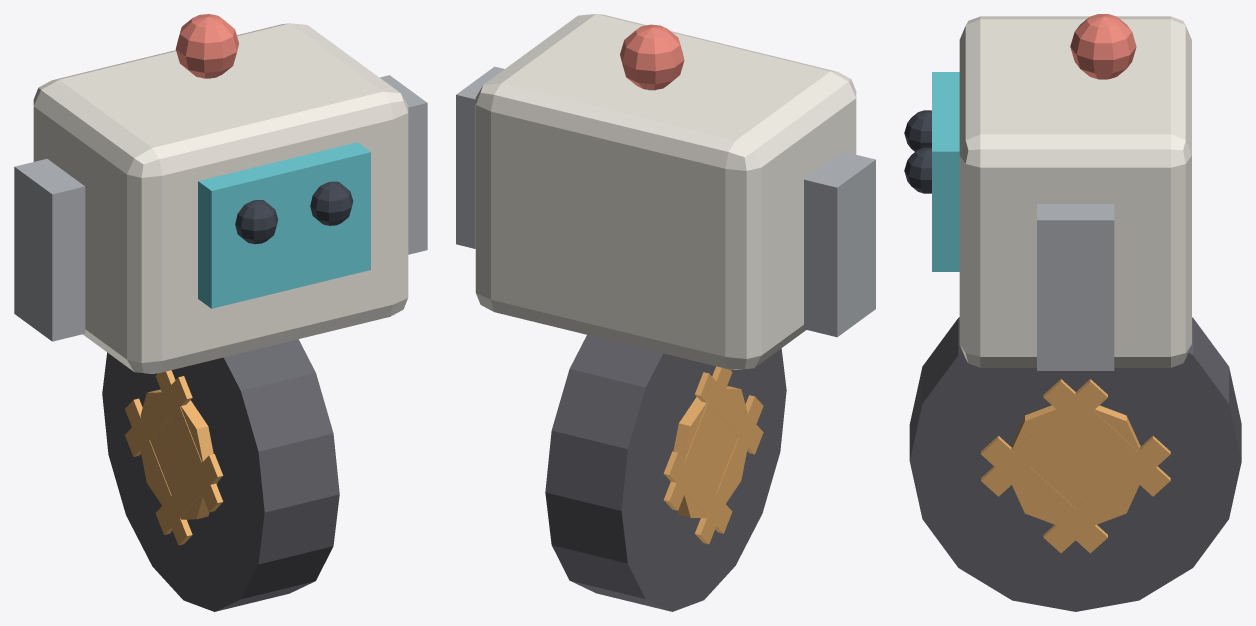
Rendered from robot.glb.
3 renders of one model, left to right at view 1: azimuth 30°, elevation 25°; view 2: azimuth 150°, elevation 25°; view 3: azimuth 270°, elevation 25°, orthographic. The views are drawn at different scales.
Parts seen in each view (by area): view 1: RobotBody, Wheel, FacePanel, Arm_L, Arm_R, AntennaTip, Eye_R, Eye_L; view 2: RobotBody, Wheel, Arm_L, Arm_R, AntennaTip; view 3: Wheel, RobotBody, Arm_R, FacePanel, AntennaTip, Eye_R, Eye_L.
Part boxes in pixels (bbox=[...]): RobotBody: bbox=[33, 23, 408, 373]; Wheel: bbox=[102, 339, 339, 611]; FacePanel: bbox=[198, 142, 370, 308]; Arm_L: bbox=[14, 159, 85, 341]; Arm_R: bbox=[380, 75, 427, 254]; AntennaTip: bbox=[175, 14, 238, 78]; Eye_R: bbox=[310, 181, 353, 225]; Eye_L: bbox=[235, 200, 278, 244]; RobotBody: bbox=[475, 14, 856, 369]; Wheel: bbox=[545, 335, 786, 611]; Arm_L: bbox=[804, 151, 875, 337]; Arm_R: bbox=[456, 66, 504, 248]; AntennaTip: bbox=[620, 24, 684, 90]; Wheel: bbox=[909, 317, 1241, 611]; RobotBody: bbox=[959, 16, 1191, 367]; Arm_R: bbox=[1037, 204, 1114, 370]; FacePanel: bbox=[932, 72, 959, 271]; AntennaTip: bbox=[1070, 14, 1136, 79]; Eye_R: bbox=[904, 147, 931, 193]; Eye_L: bbox=[904, 110, 931, 151].
Bounding box in the file's own units: 0.8 × 1.15 × 0.61.
